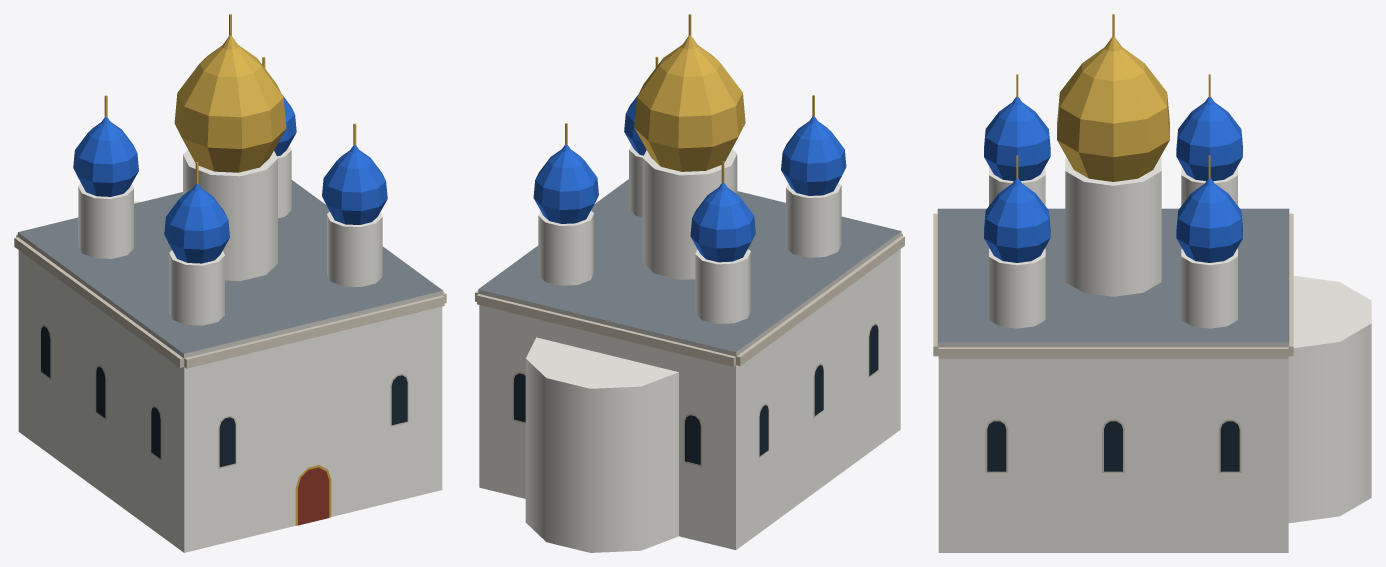
File: eglise_orthodoxe.glb
3 renders of one model, left to right at view 1: azimuth 30°, elevation 25°; view 2: azimuth 150°, elevation 25°; view 3: azimuth 270°, elevation 25°, orthographic. The views are drawn at different scales.
Visible parts, largest first — view 1: eglise_orthodoxe; view 2: eglise_orthodoxe; view 3: eglise_orthodoxe.
Part boxes in pixels (x1=…): eglise_orthodoxe: x1=14, y1=14, x2=446, y2=552; eglise_orthodoxe: x1=475, y1=14, x2=904, y2=552; eglise_orthodoxe: x1=933, y1=14, x2=1371, y2=552.
Size of the model in its own units: 18.6 by 29.76 by 25.06.
1 material, 1 textured.
